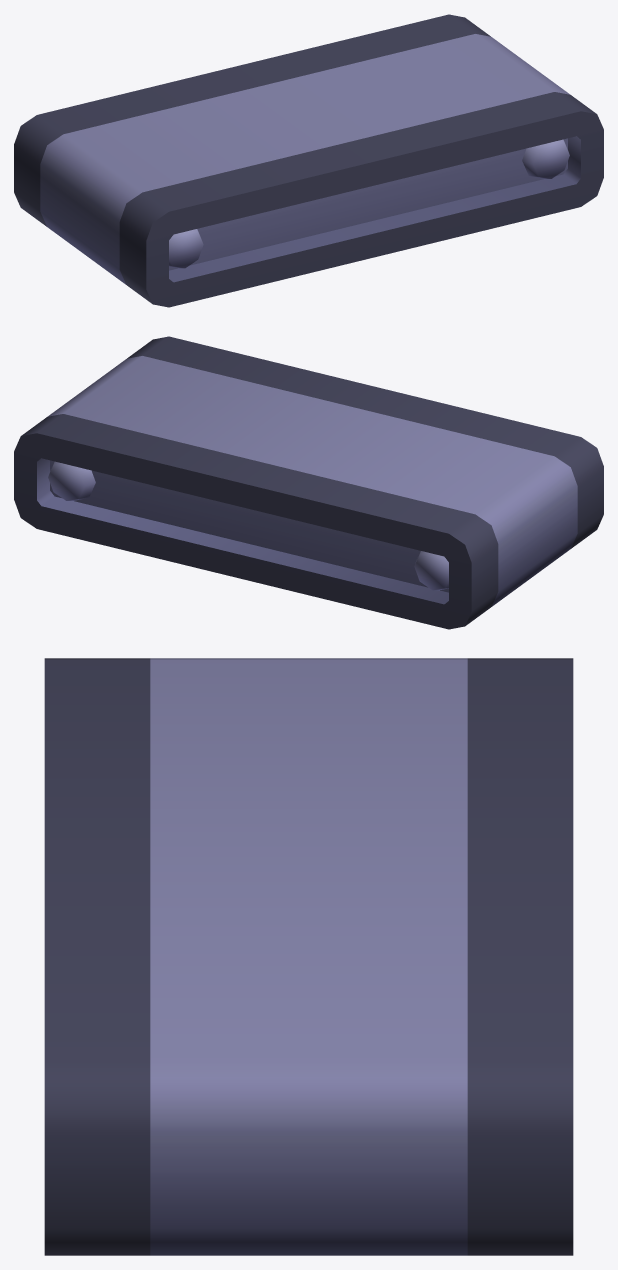
Rendered from kenney-conveyor-conveyor-long-stripe.glb.
3 views of the same model, one above another, from view 1: azimuth 30°, elevation 25°; view 2: azimuth 150°, elevation 25°; view 3: azimuth 270°, elevation 25° (orthographic). The views are drawn at different scales.
Visible parts, largest first — view 1: conveyor-long-stripe; view 2: conveyor-long-stripe; view 3: conveyor-long-stripe.
Part boxes in pixels (left/top/right/bottom): conveyor-long-stripe: left=14, top=14, right=603, bottom=307; conveyor-long-stripe: left=14, top=336, right=603, bottom=629; conveyor-long-stripe: left=44, top=658, right=573, bottom=1255.
Size of the model in its own units: 2 by 0.3999 by 1.
1 material, 1 textured.
